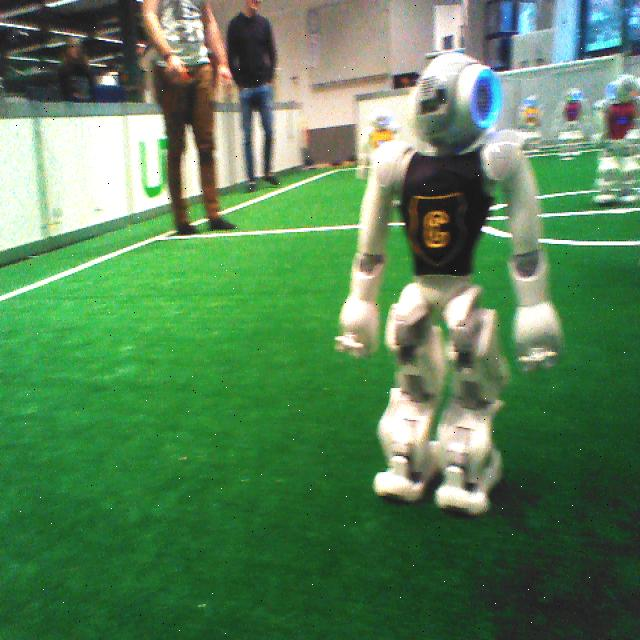goalpost: (611, 53, 625, 79)
